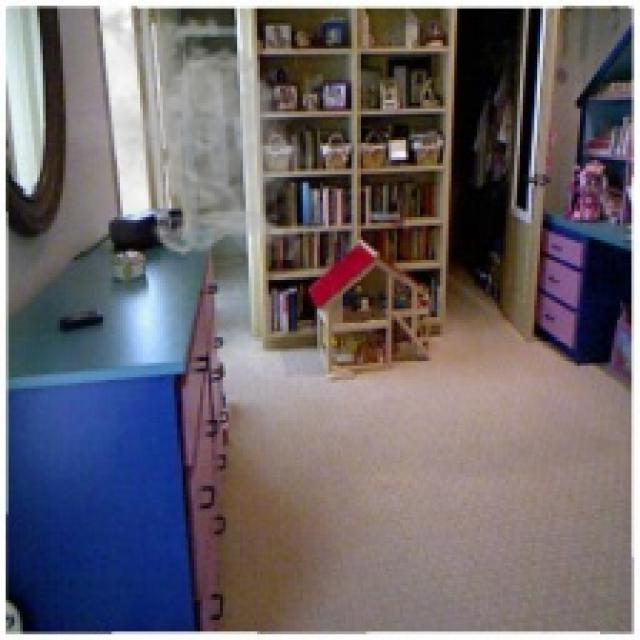smoke: (69, 0, 314, 260)
